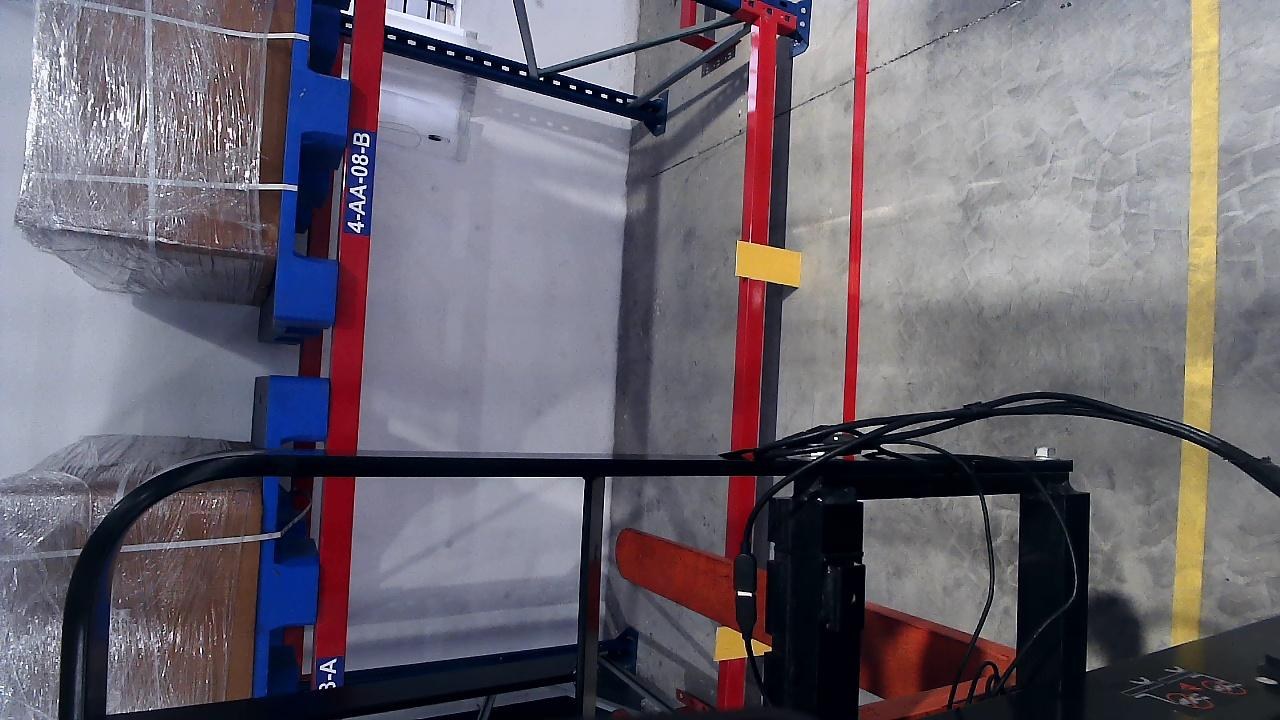h_rack: (317, 0, 381, 694), (733, 18, 780, 711)
orange_strip: (735, 241, 801, 287), (713, 628, 747, 660)
red_line: (842, 3, 868, 425)
small_pallet: (270, 0, 349, 317), (248, 378, 327, 690)
yellow_line: (1174, 0, 1221, 648)
